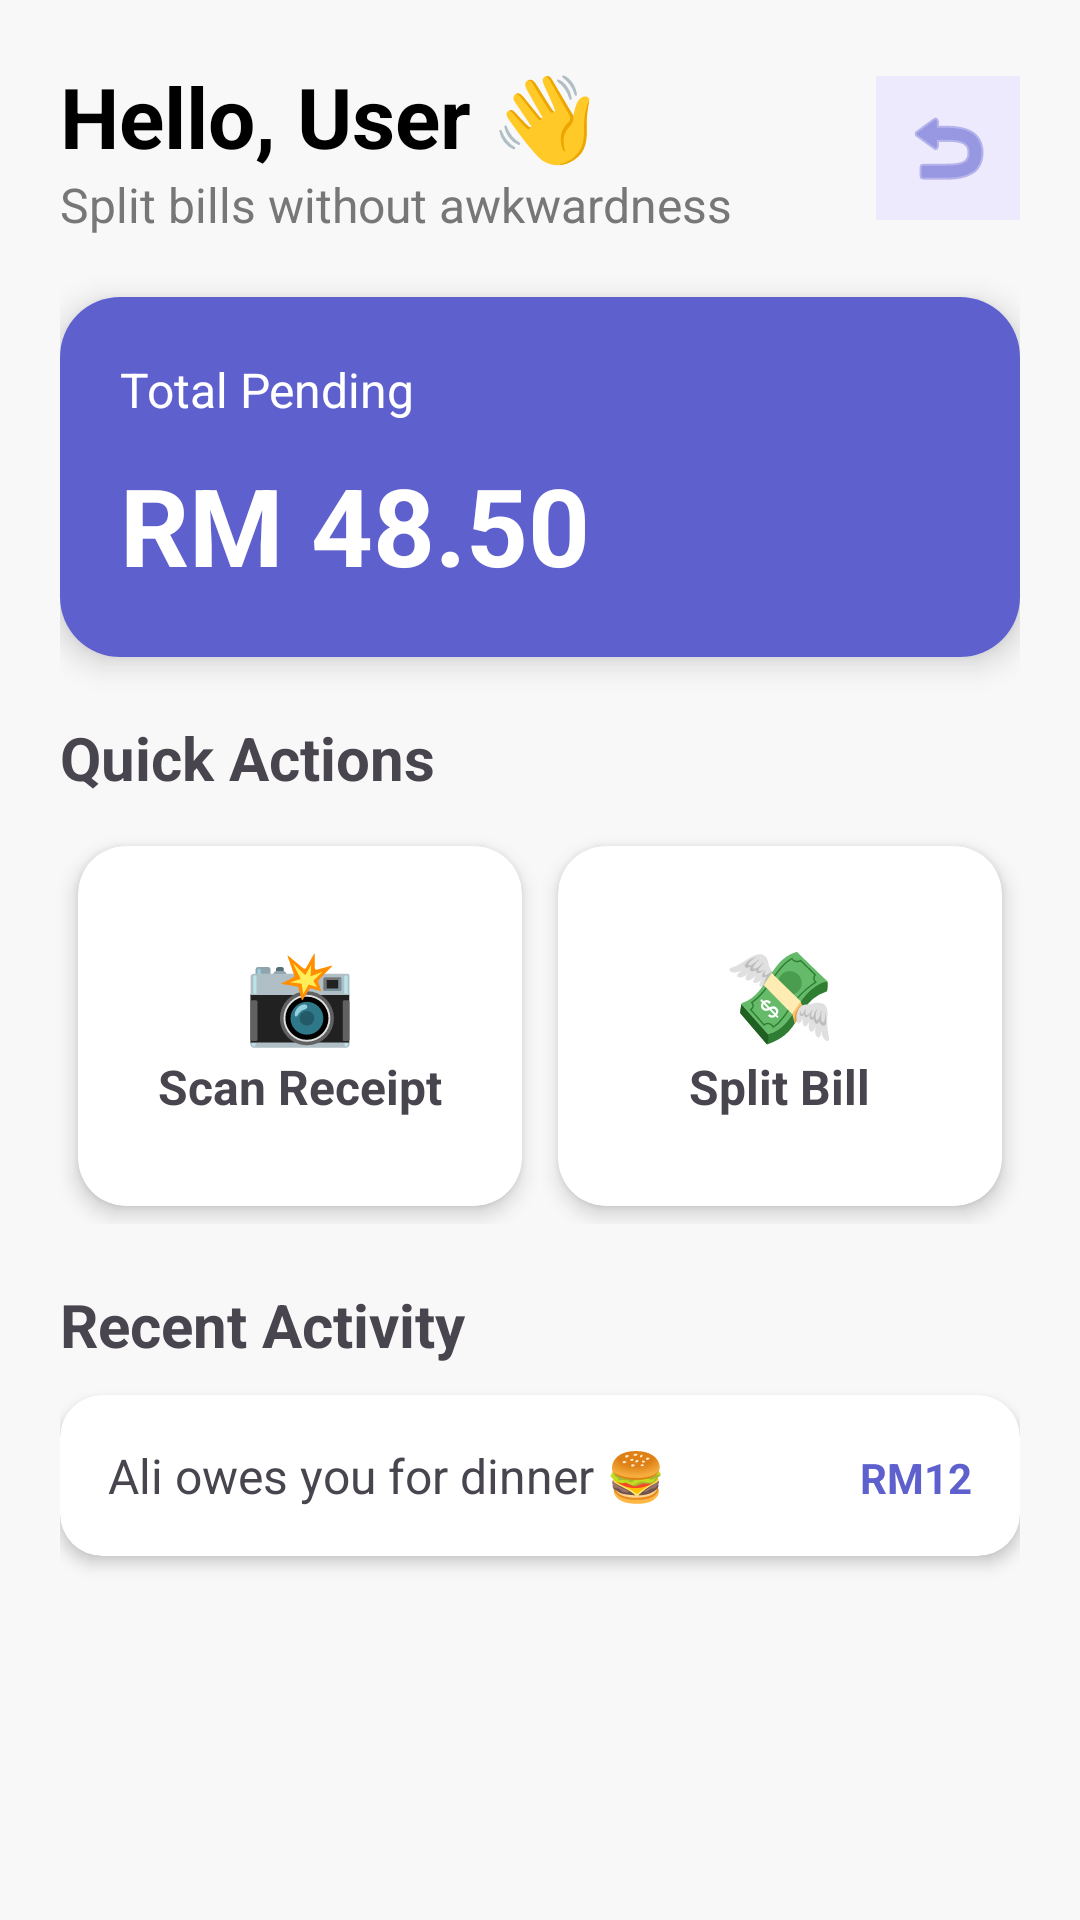

Point at icon controls on the screen. Image size 1080 × 1920, points as (x,y).
revert: (949,148)
